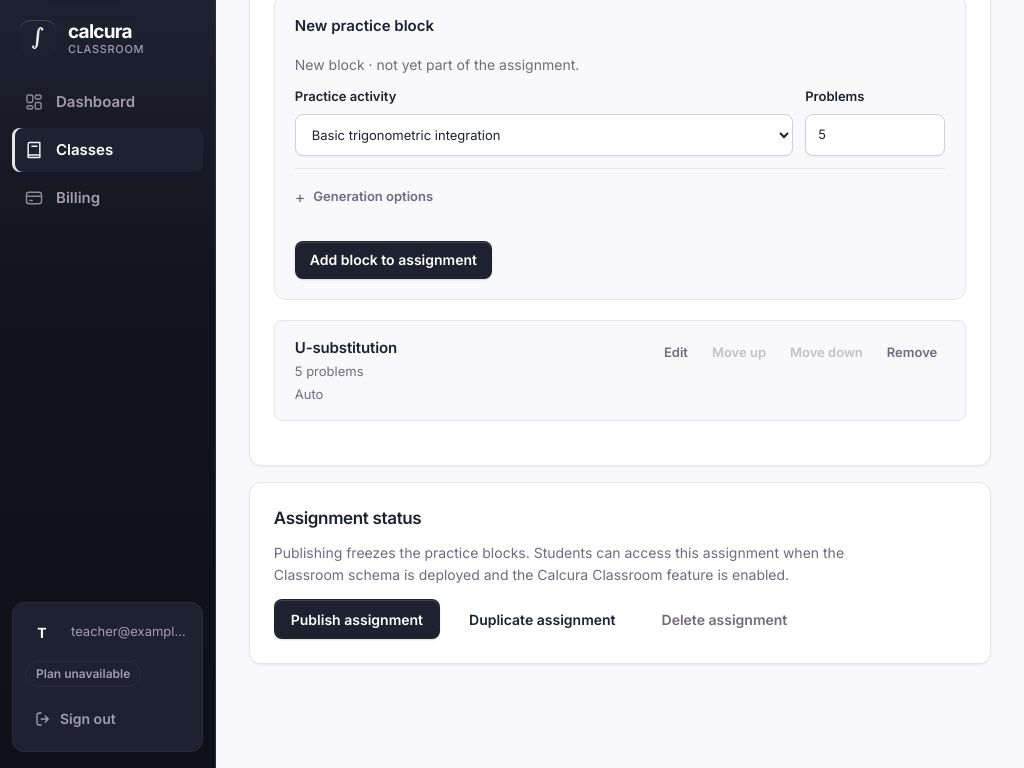
Test: teacher assignment workflow › cancels existing-block edits without changing the assignment
(page scrolled)
Step 1. Click the button with aria-label "Edit block 1" → (676, 353), box [656,337,696,369]
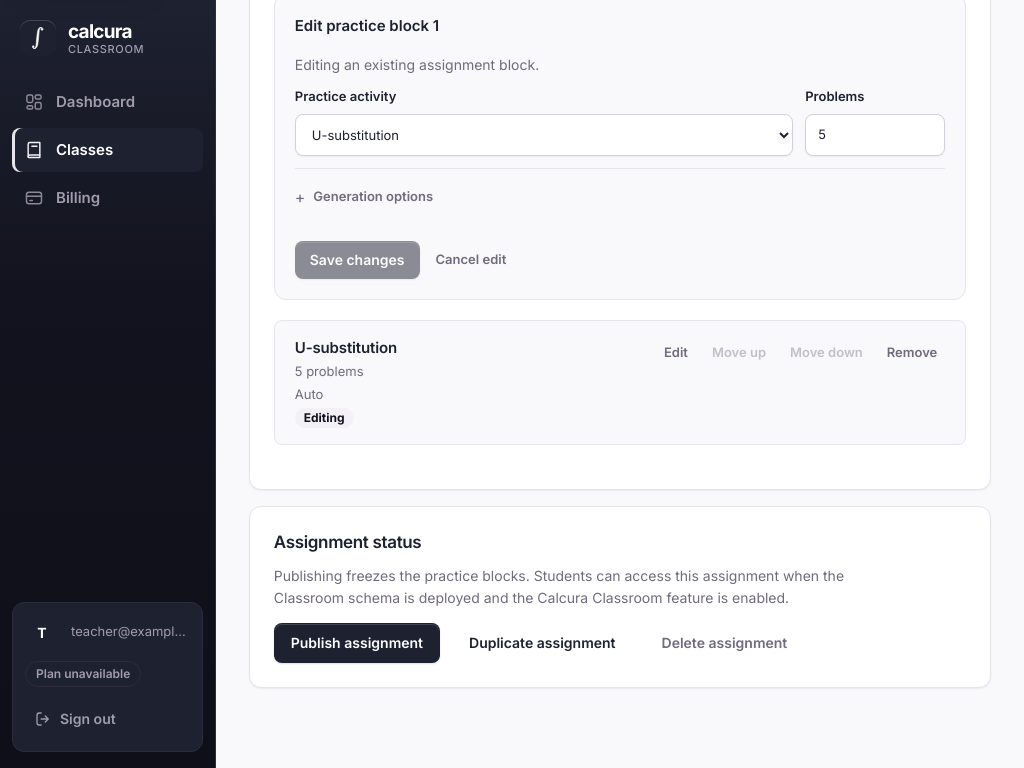
Step 2. Replace the text in the number field labelled "Problems" with "7" → (875, 135), box [805,114,945,156]
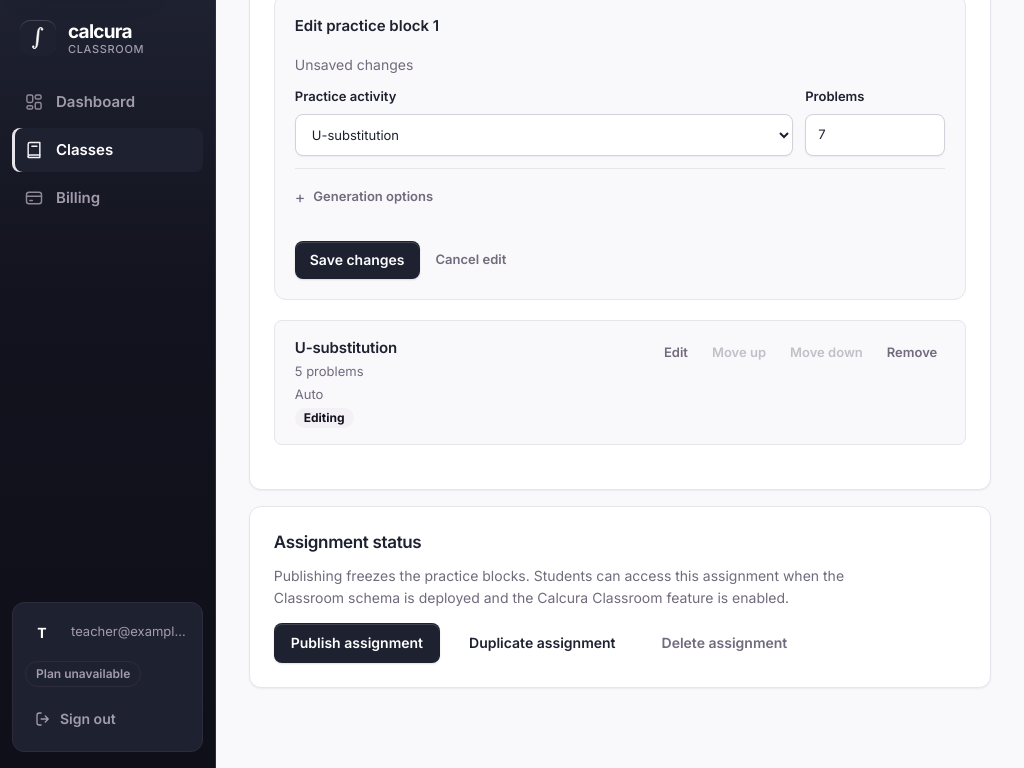
Check: the text "Unsaved changes" is shown, box [295,56,413,72]
Step 3. Click the button "Cancel edit" → (471, 260), box [428,244,514,276]
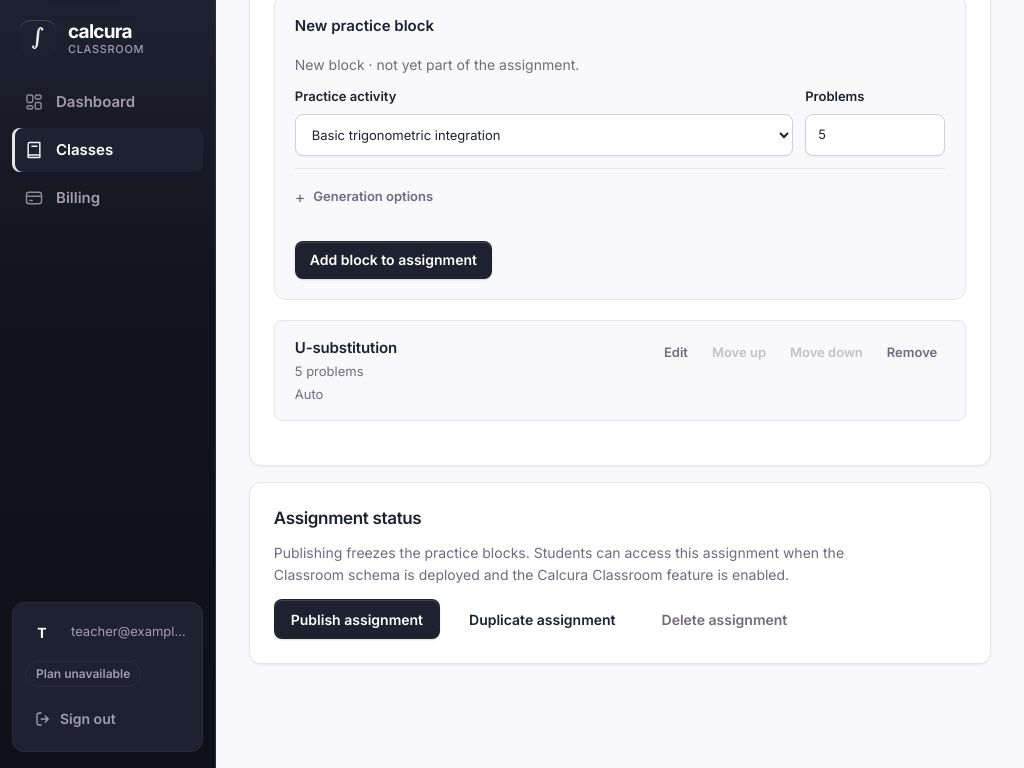
Check: the text "5 problems" is shown, box [295,363,364,379]
Check: the heading "New practice block" is shown, box [295,16,434,34]
Check: the number field labelled "Problems" holds "5", box [805,114,945,156]
